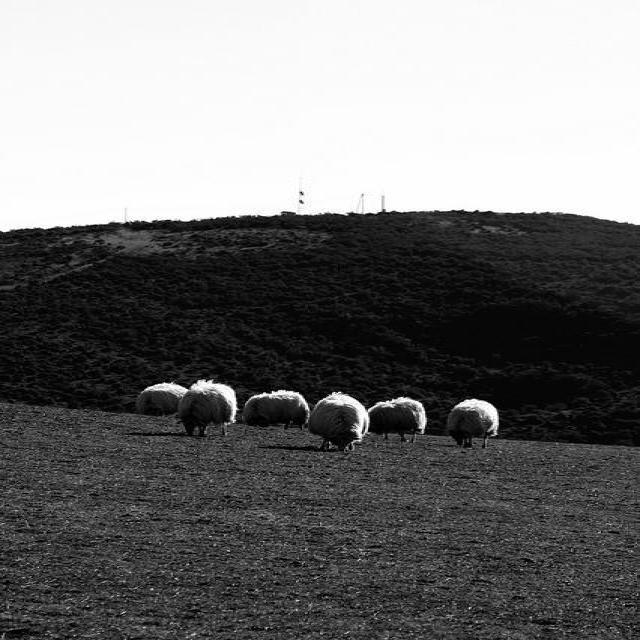Sheep: (306, 390, 369, 452), (176, 381, 237, 438), (240, 390, 310, 430), (367, 398, 428, 443), (448, 400, 498, 450)
